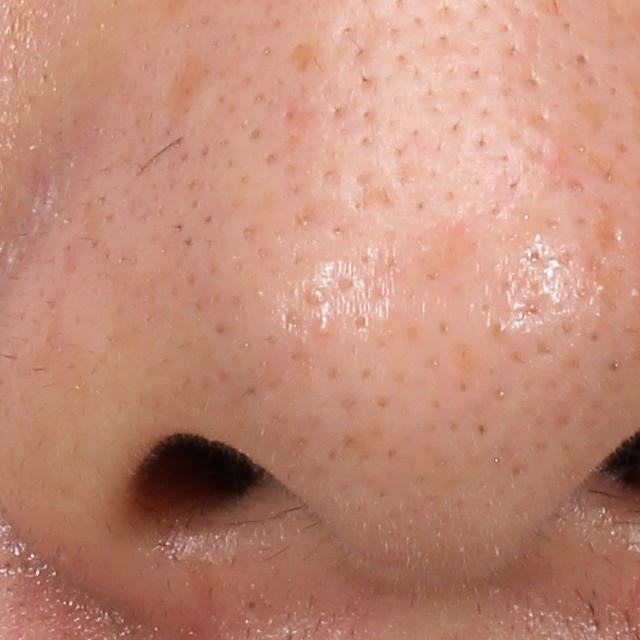atrophic_scar: (289, 39, 318, 76)
